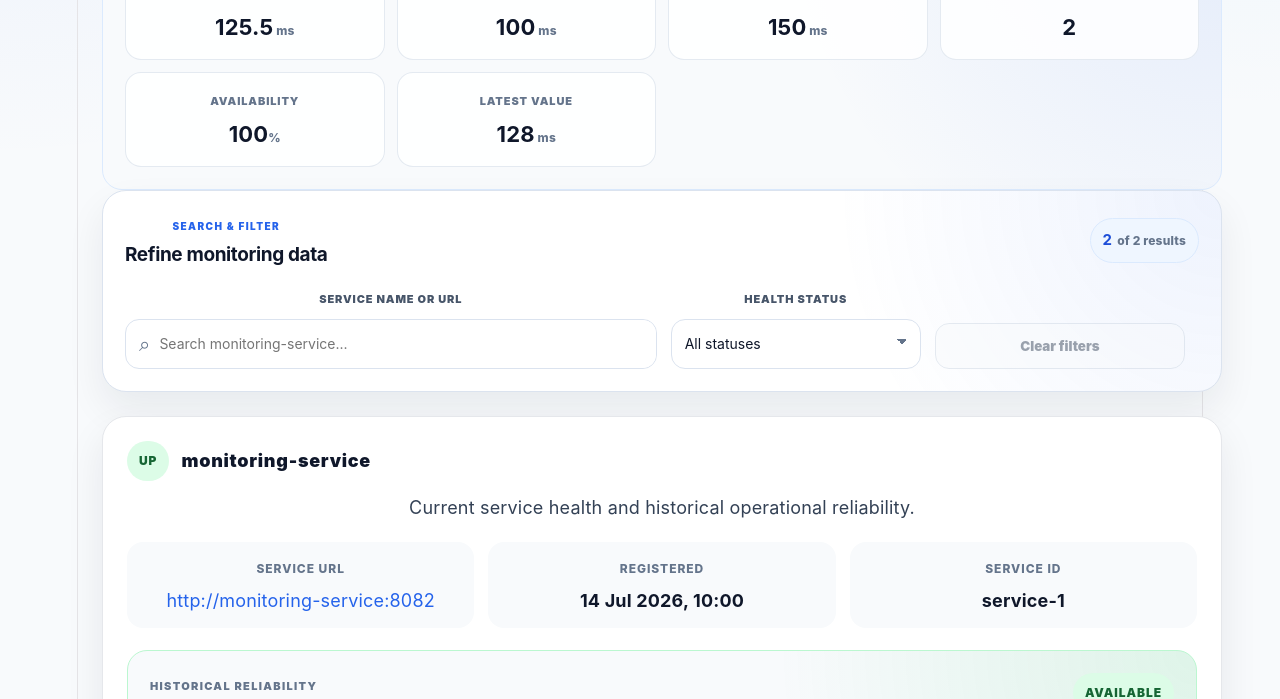
Scenario: ServicesPage › shows a filtered empty state
(page scrolled)
Step 1. Type "missing-service" into the search field labelled "Service name or URL" → (408, 344), box [159,320,656,368]
(page scrolled)
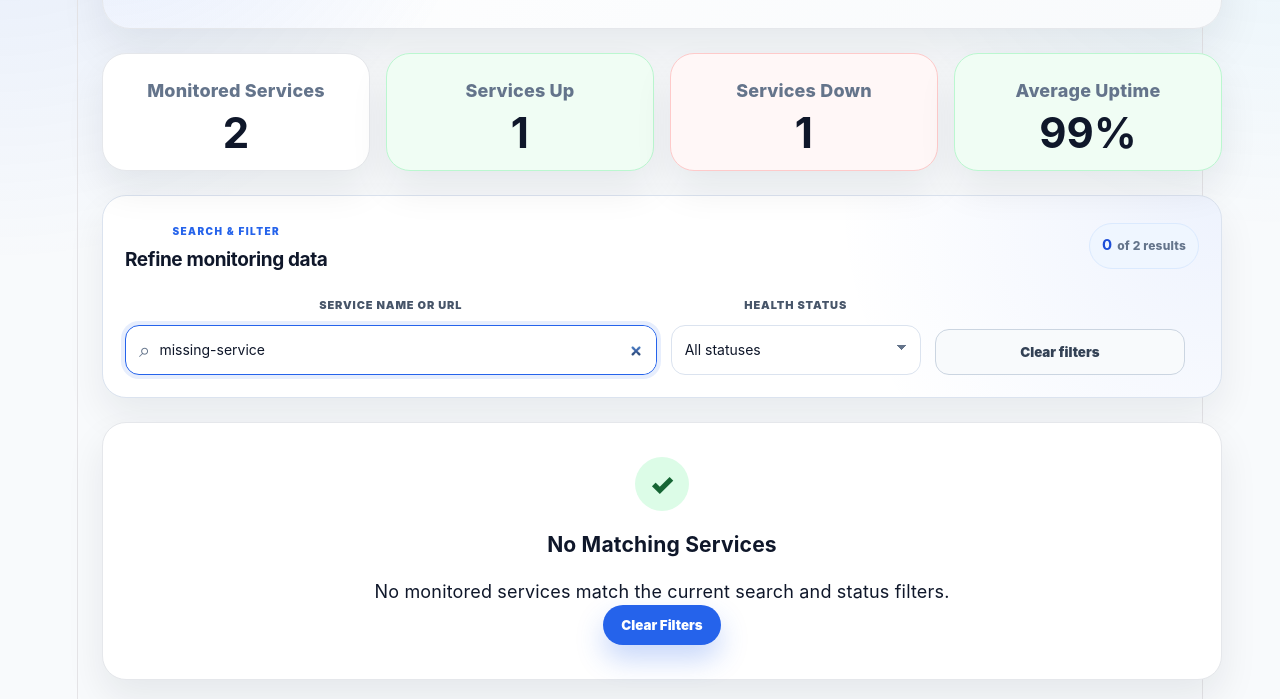
Check: the heading "No Matching Services" is shown, box [547,532,777,557]
